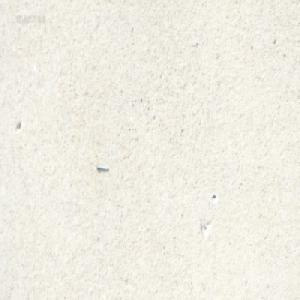Nail: (95, 162, 108, 171)
